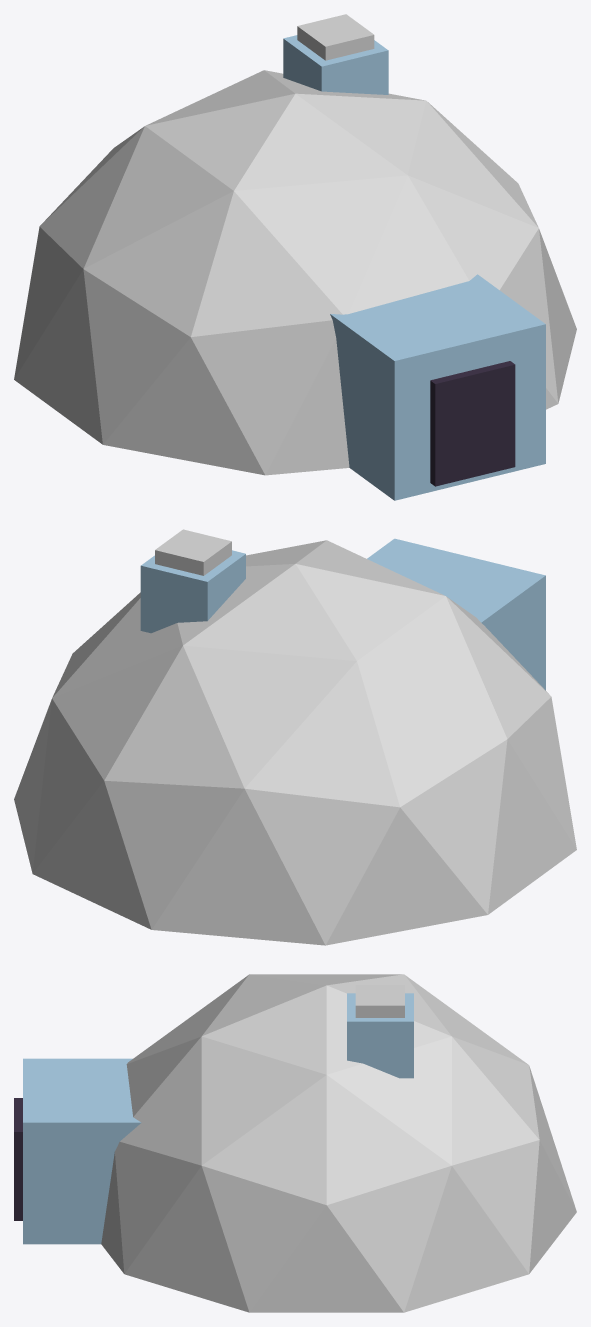
File: ice-landmark-s1.glb
3 renders of one model, top to bottom at view 1: azimuth 30°, elevation 25°; view 2: azimuth 150°, elevation 25°; view 3: azimuth 270°, elevation 25°, orthographic. The views are drawn at different scales.
Parts seen in each view (by area): view 1: ice-landmark-s1; view 2: ice-landmark-s1; view 3: ice-landmark-s1.
Part boxes in pixels (bbox=[...]): ice-landmark-s1: bbox=[14, 14, 576, 500]; ice-landmark-s1: bbox=[14, 529, 576, 945]; ice-landmark-s1: bbox=[14, 974, 576, 1312].
Bounding box in the file's own units: 1.07 × 0.61 × 1.26.
